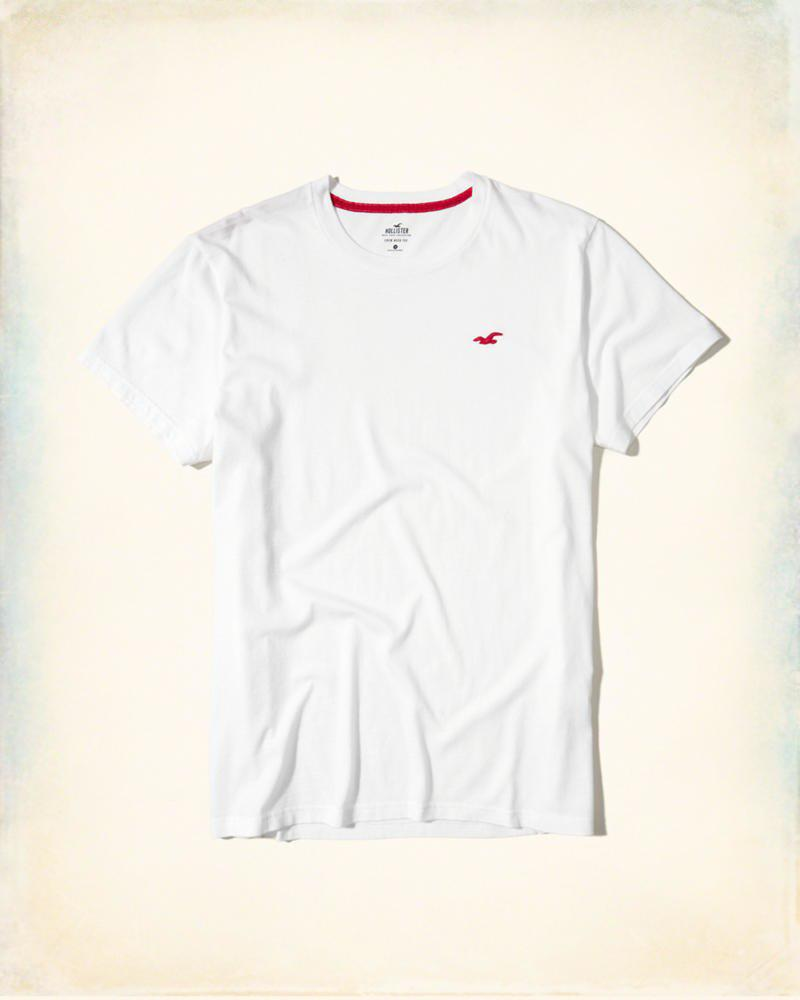teeshirt: (76, 140, 726, 862)
